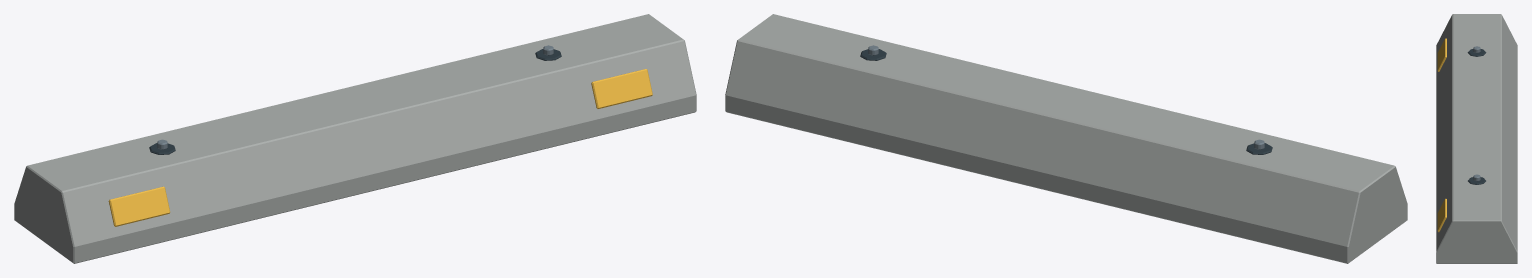
Rendered from b02_concrete_wheel_stop.glb.
The picture shows the model from 3 angles, left to right: view 1: azimuth 30°, elevation 25°; view 2: azimuth 150°, elevation 25°; view 3: azimuth 270°, elevation 25°; orthographic projection. The views are drawn at different scales.
Visible parts, largest first — view 1: b02_concrete_wheel_stop; view 2: b02_concrete_wheel_stop; view 3: b02_concrete_wheel_stop.
Part boxes in pixels (x1=…): b02_concrete_wheel_stop: x1=14, y1=14, x2=696, y2=263; b02_concrete_wheel_stop: x1=725, y1=14, x2=1407, y2=263; b02_concrete_wheel_stop: x1=1436, y1=14, x2=1517, y2=263.
Bounding box in the file's own units: 1.68 × 0.186 × 0.28.
